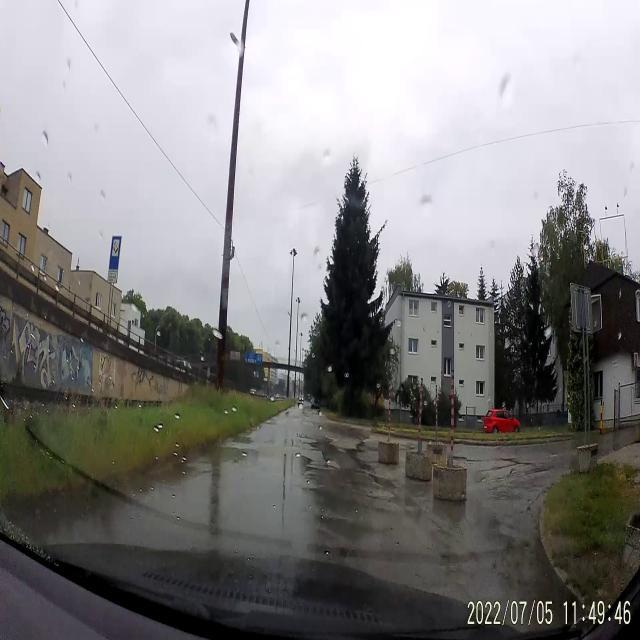Pothole: (498, 454, 528, 470), (322, 454, 339, 472), (302, 438, 322, 452), (453, 453, 469, 464)
